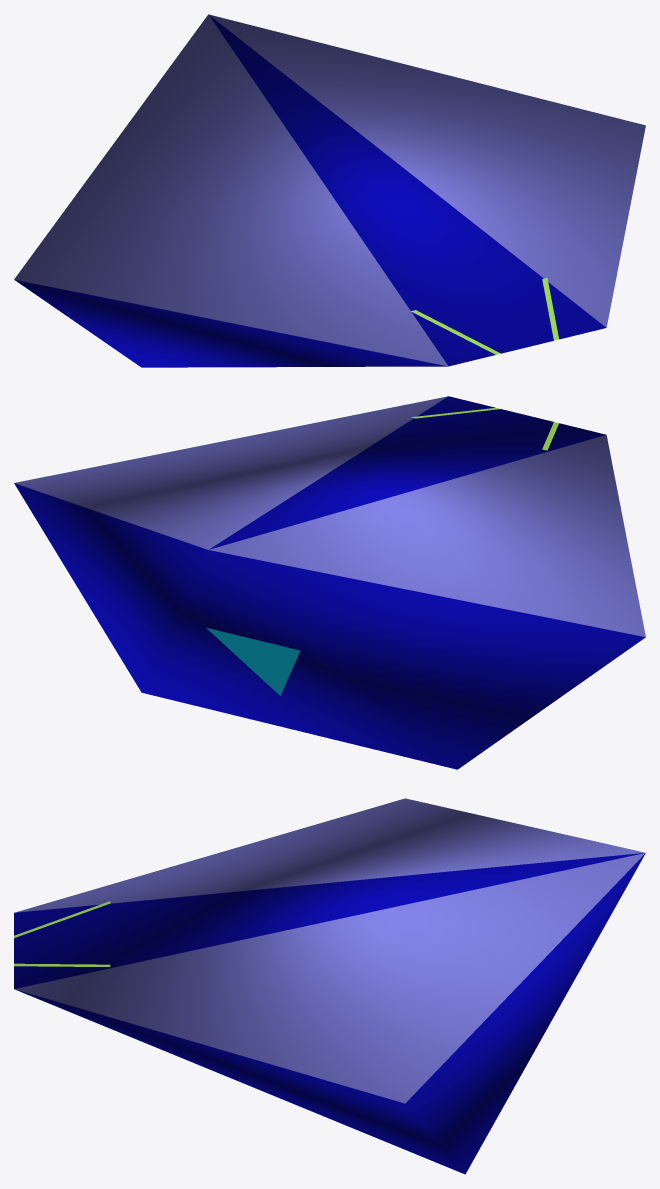
The model's file is moray.fbx.
The picture shows the model from 3 angles, top to bottom: view 1: azimuth 30°, elevation 25°; view 2: azimuth 150°, elevation 25°; view 3: azimuth 270°, elevation 25°; orthographic projection.
Parts seen in each view (by area): view 1: moray; view 2: moray; view 3: moray.
Part boxes in pixels (<box>): moray: <box>14,14,645,367</box>; moray: <box>14,396,645,769</box>; moray: <box>14,798,645,1174</box>.
Size of the model in its own units: 1.2 by 0.45 by 1.05.
